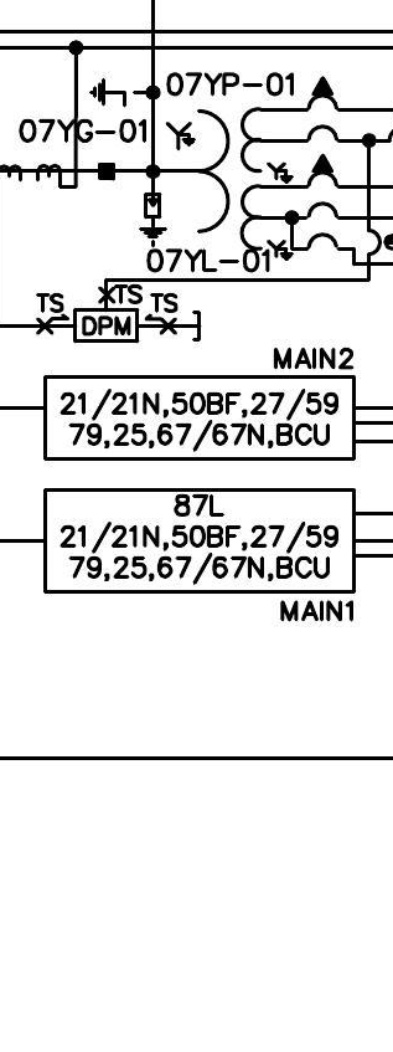115_gs: (88, 77, 139, 108)
115_la: (138, 192, 169, 249)
115_vt_3p: (165, 75, 340, 261)
DPM: (73, 308, 140, 343)
